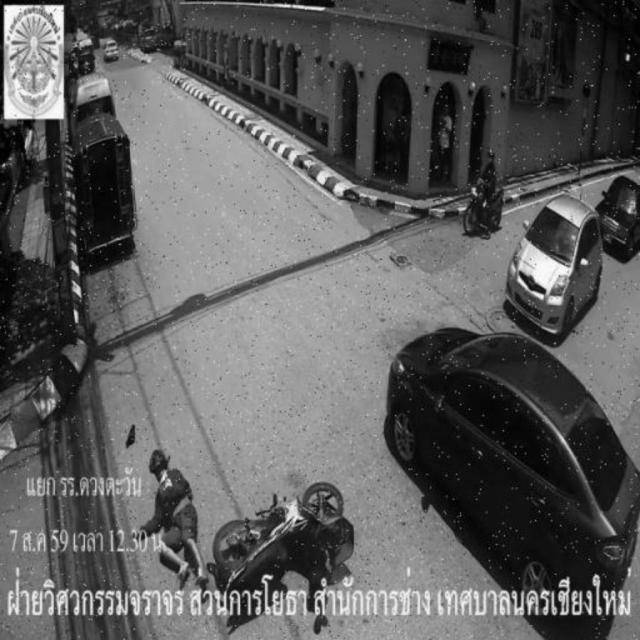person: (147, 448, 203, 582)
vehicle: (391, 324, 639, 620), (217, 482, 351, 624), (510, 190, 603, 330), (71, 116, 141, 260), (460, 146, 510, 238), (601, 172, 640, 258)
